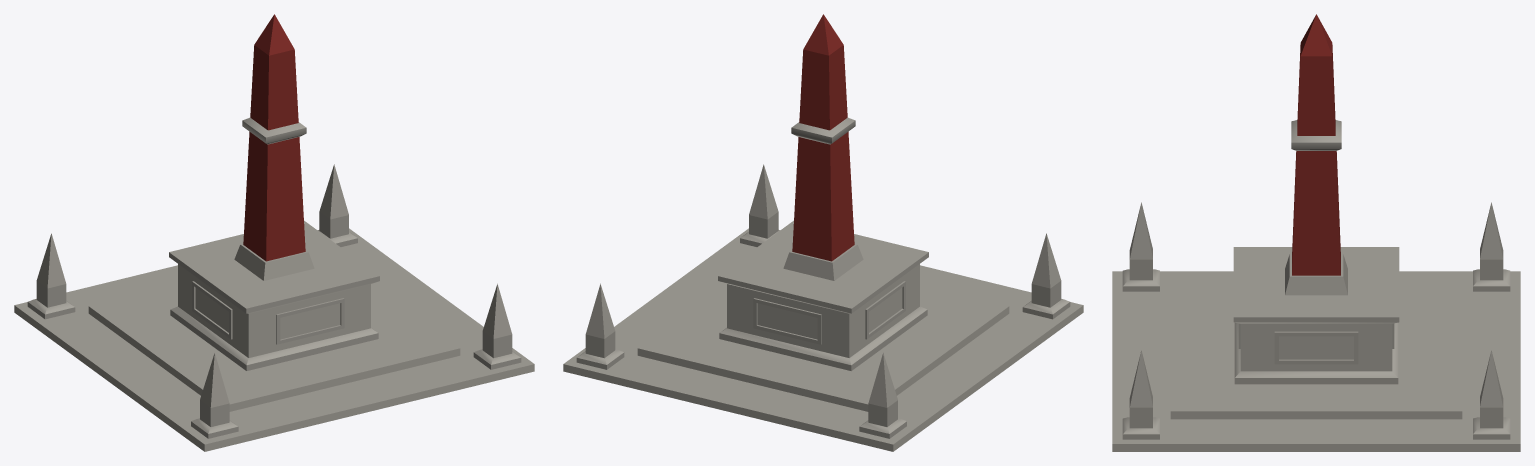
File: Monument5.fbx
The picture shows the model from 3 angles, left to right: view 1: azimuth 30°, elevation 25°; view 2: azimuth 150°, elevation 25°; view 3: azimuth 270°, elevation 25°; orthographic projection. The views are drawn at different scales.
Visible parts, largest first — view 1: Monument5; view 2: Monument5; view 3: Monument5.
Boxes of the visible parts, <box> form: Monument5: <box>14,14,534,451</box>; Monument5: <box>563,14,1083,451</box>; Monument5: <box>1112,14,1520,451</box>.
Bounding box in the file's own units: 7 × 6.65 × 7.
